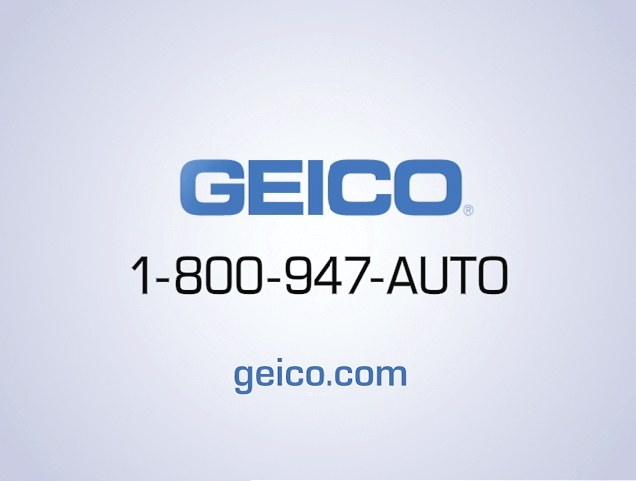Geico: (177, 153, 476, 219)
